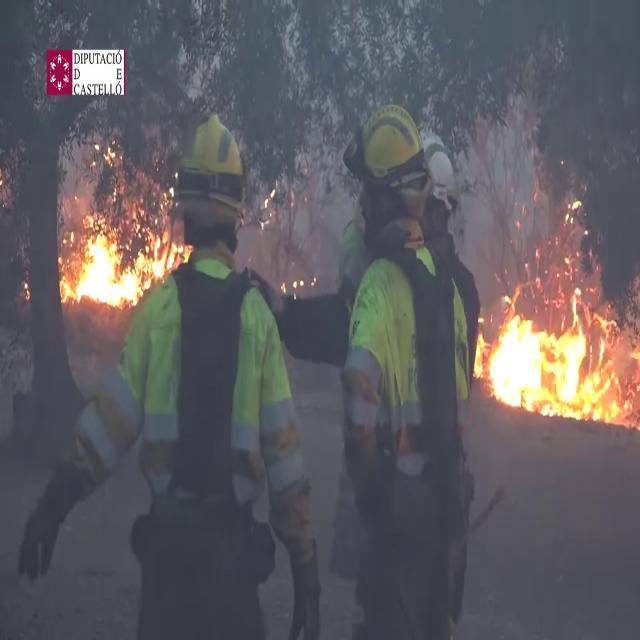Fire: (476, 296, 622, 420), (64, 195, 190, 309)
